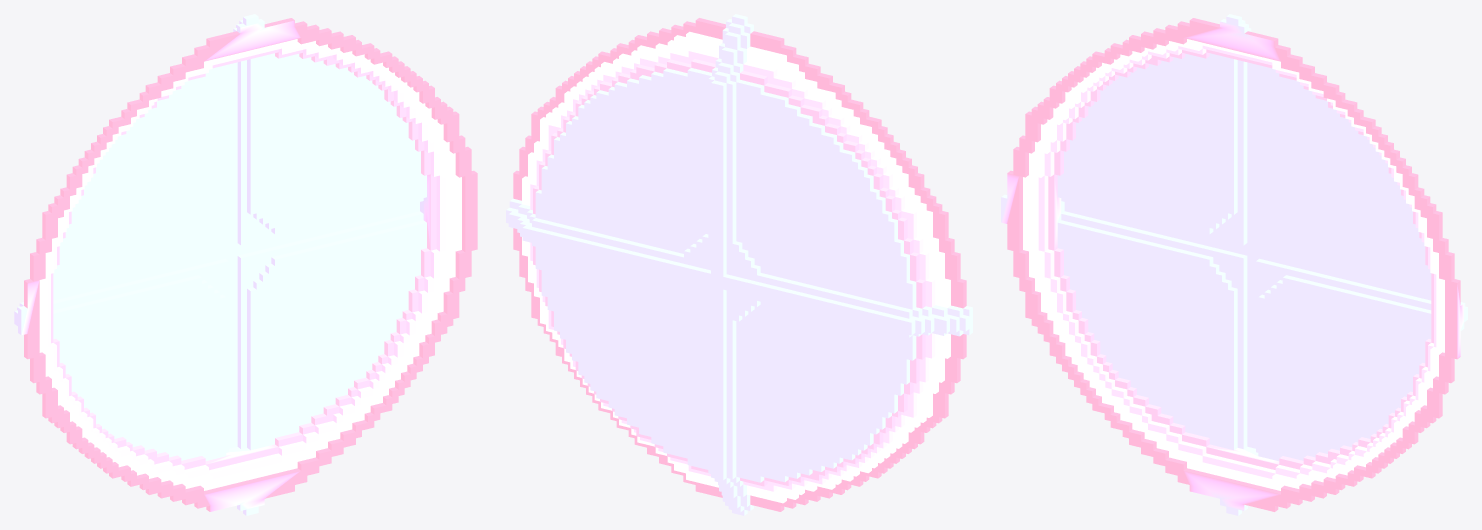
Rendered from SM_TheBalanceForceField.fbx.
3 views of the same model, side by side, from view 1: azimuth 30°, elevation 25°; view 2: azimuth 150°, elevation 25°; view 3: azimuth 330°, elevation 25° (orthographic).
Parts seen in each view (by area): view 1: SM_TheBalanceShield; view 2: SM_TheBalanceShield; view 3: SM_TheBalanceShield.
Part boxes in pixels (x1,y1,x2,y2): SM_TheBalanceShield: (14,14,477,515); SM_TheBalanceShield: (506,14,972,515); SM_TheBalanceShield: (1001,14,1467,515).
Bounding box in the file's own units: 750 × 780 × 70.
